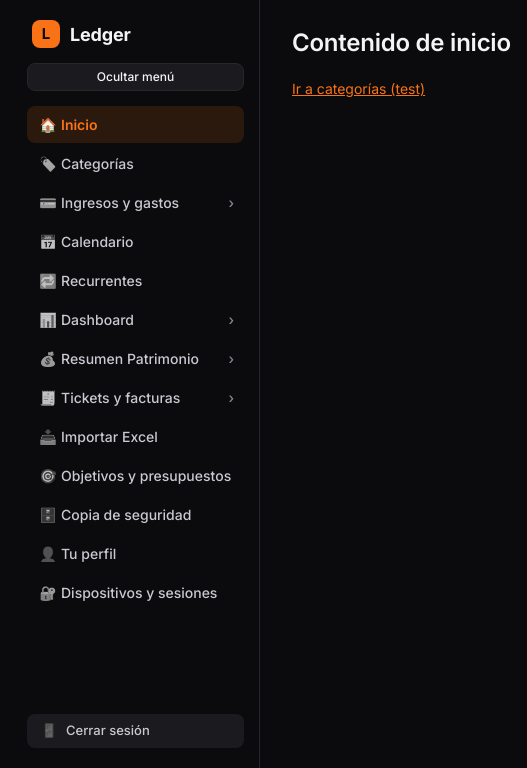
Test: AppLayout › oculta las subsecciones con el menú plegado, aunque estuvieran desplegadas
Click the link "💳 Ingresos y gastos ›" at (137, 203), box [39,194,234,211]
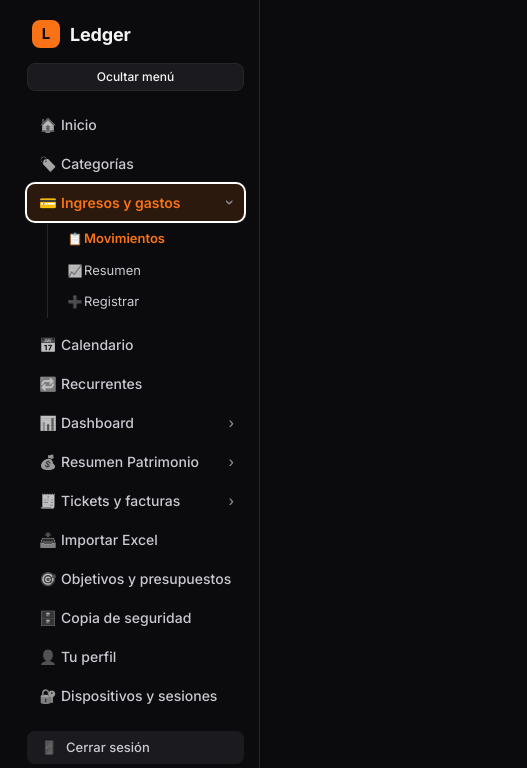
Expected: the link "📋 Movimientos" is shown, [68,230,165,246]
Click the button "Ocultar menú" at (136, 77), box [27,63,244,91]
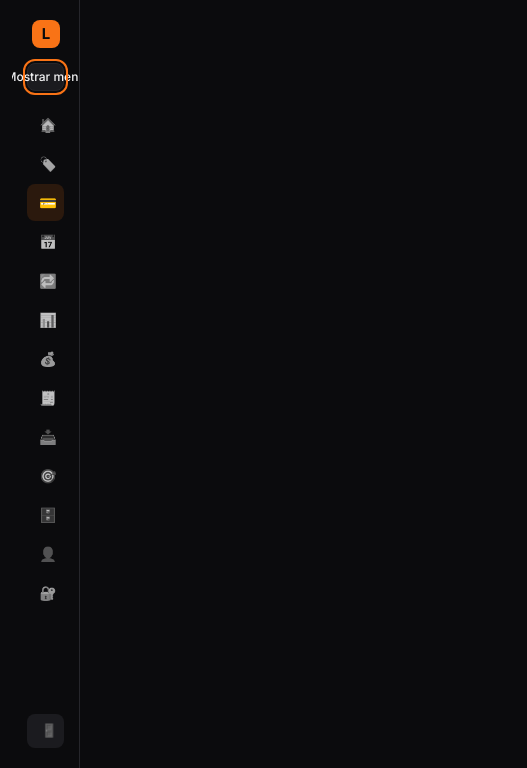
Expected: the link "Movimientos" is gone
